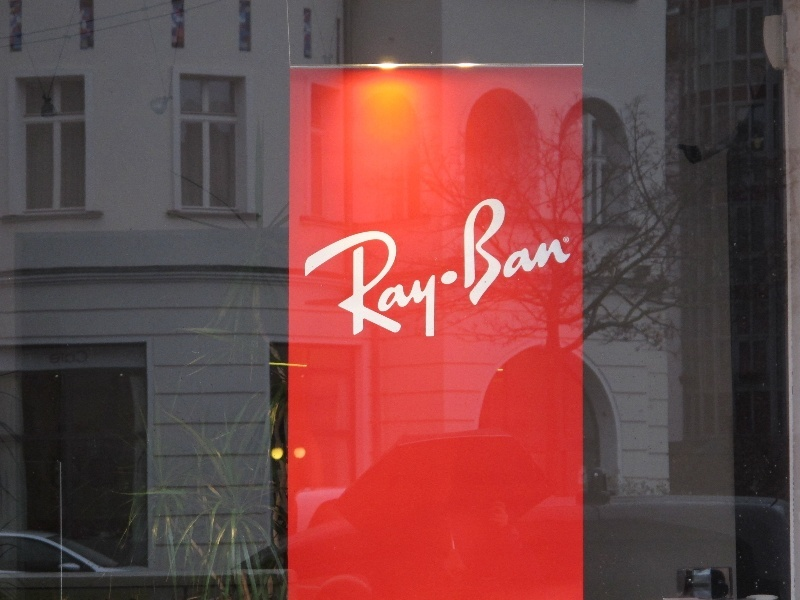text: (305, 195, 320, 383), (321, 195, 336, 383), (337, 195, 352, 383), (353, 195, 368, 383), (369, 195, 384, 383), (385, 195, 400, 383), (401, 195, 416, 383), (417, 195, 432, 383), (433, 195, 448, 383), (449, 195, 464, 383), (465, 197, 480, 312), (481, 197, 496, 312), (497, 197, 512, 312), (513, 197, 528, 312), (529, 197, 544, 312), (545, 197, 560, 312), (561, 197, 575, 312), (298, 195, 304, 383), (465, 195, 470, 383), (65, 351, 80, 365), (50, 351, 64, 365), (81, 351, 89, 365), (566, 238, 576, 242)
